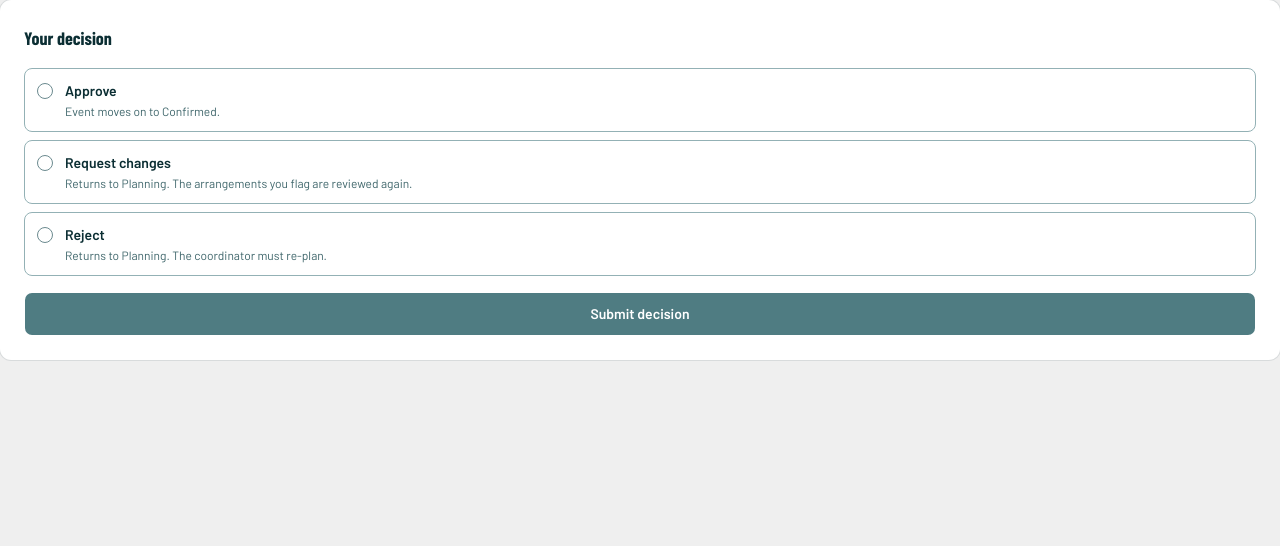
Test: SCRUM-99/AC4 + AC6 choose an outcome; Reject needs a reason › SCRUM-99/AC6 stops a Reject without a reason before anything is sent
What coordinates should you click on to do the following:
click the radio button next to "Reject"
I would click on:
 (45, 235)
Its box is [37,227,53,243].
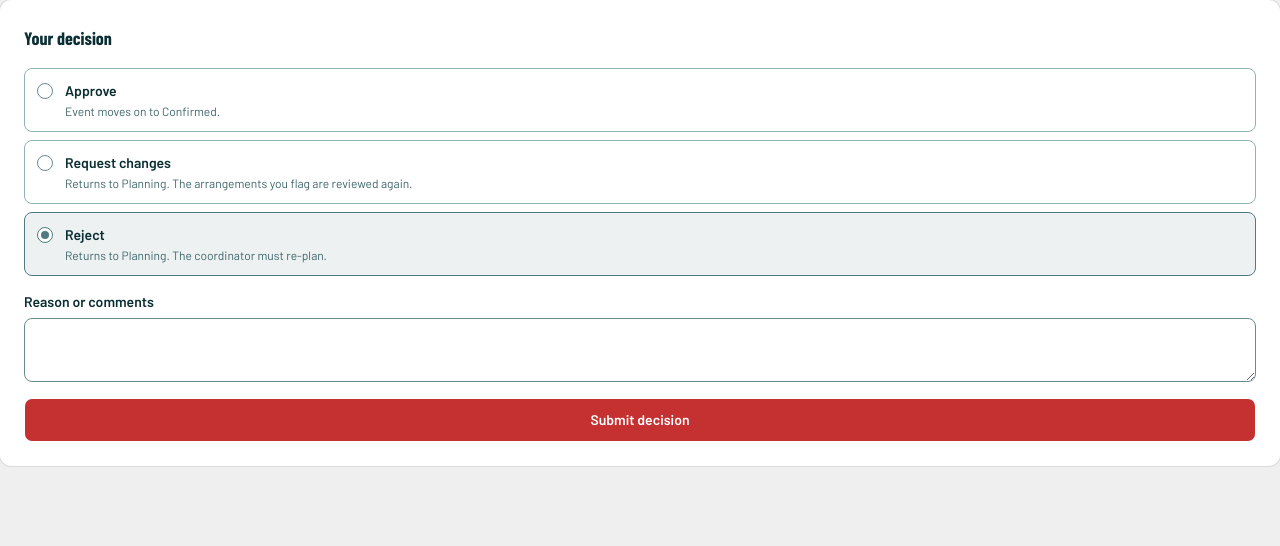
What coordinates should you click on to do the following:
click the button "Submit decision"
I would click on:
 (640, 420)
Its box is [24,398,1256,442].
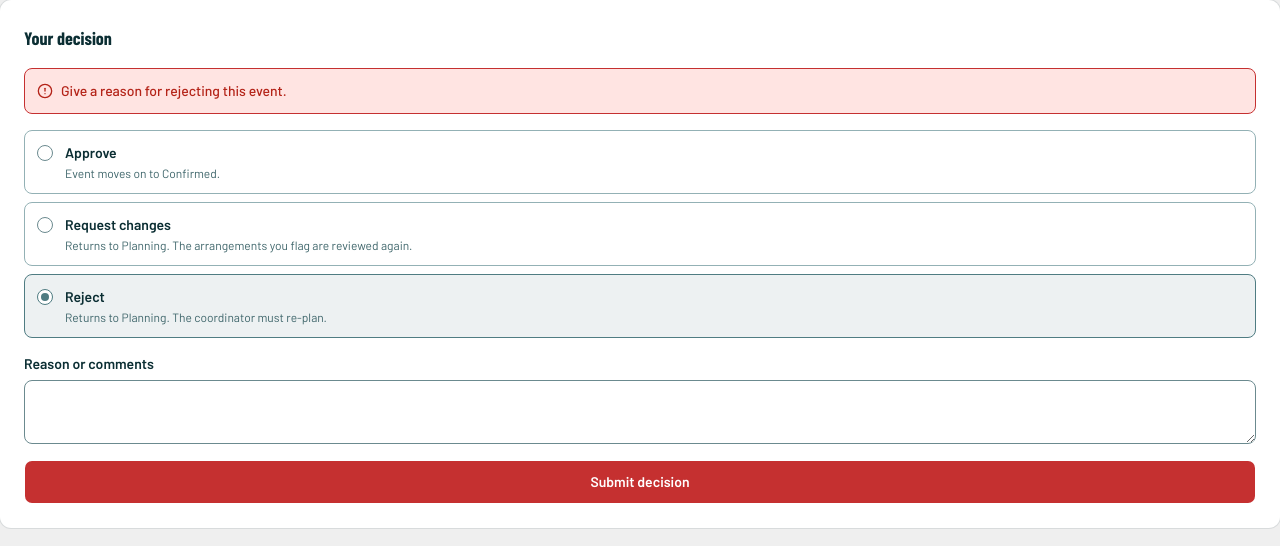
Expected: the message reads "Give a reason for rejecting this event.", [61,82,287,99]
